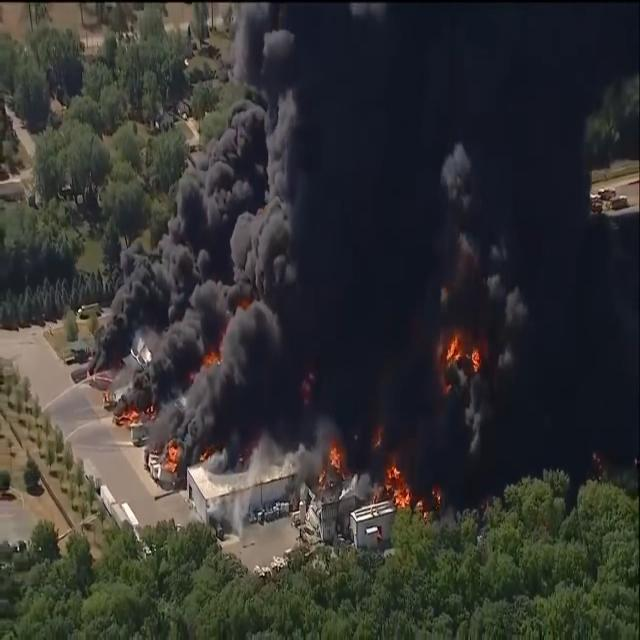Fire: (436, 327, 480, 387), (380, 458, 412, 512), (322, 444, 346, 484), (194, 346, 229, 370), (116, 404, 156, 424), (162, 442, 180, 476), (230, 294, 255, 315)
Smoke: (82, 0, 406, 452), (405, 1, 602, 484)
